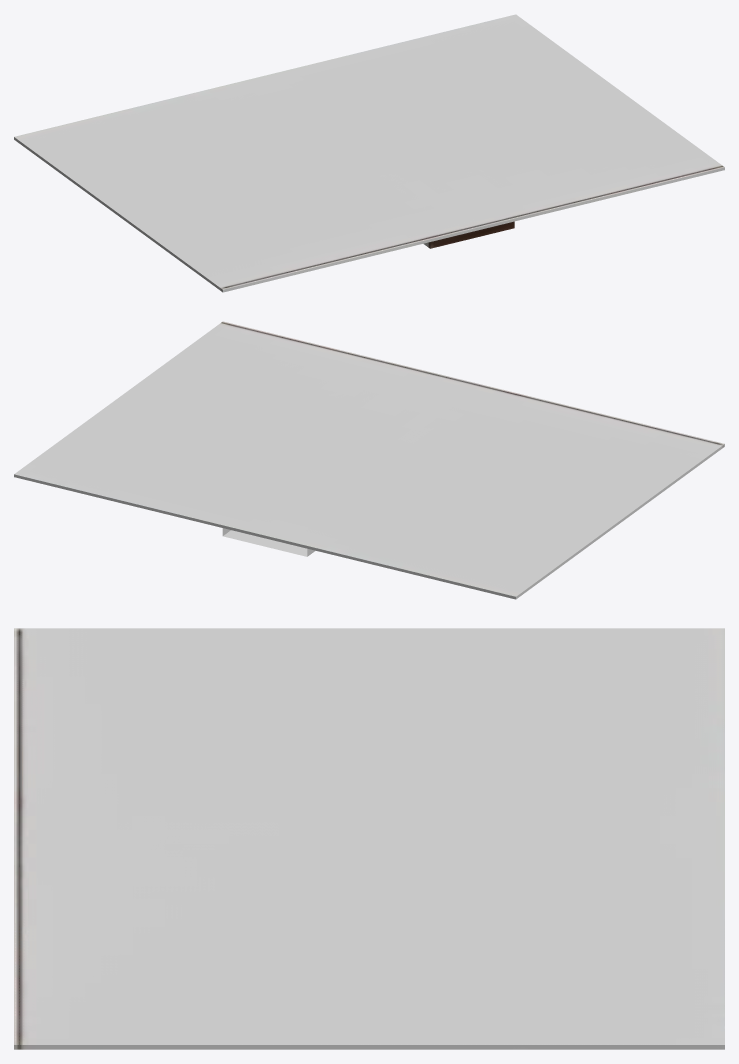
Rendered from link_2__drawer_bottom-134.glb.
3 renders of one model, top to bottom at view 1: azimuth 30°, elevation 25°; view 2: azimuth 150°, elevation 25°; view 3: azimuth 270°, elevation 25°, orthographic. The views are drawn at different scales.
Parts seen in each view (by area): view 1: world; view 2: world; view 3: world.
Boxes of the visible parts, left/top/right/bottom form: world: left=14, top=14, right=724, bottom=292; world: left=14, top=321, right=724, bottom=599; world: left=14, top=628, right=724, bottom=1049.
Size of the model in its own units: 0.4989 by 0.0105 by 0.3597.
1 material, 1 textured.
